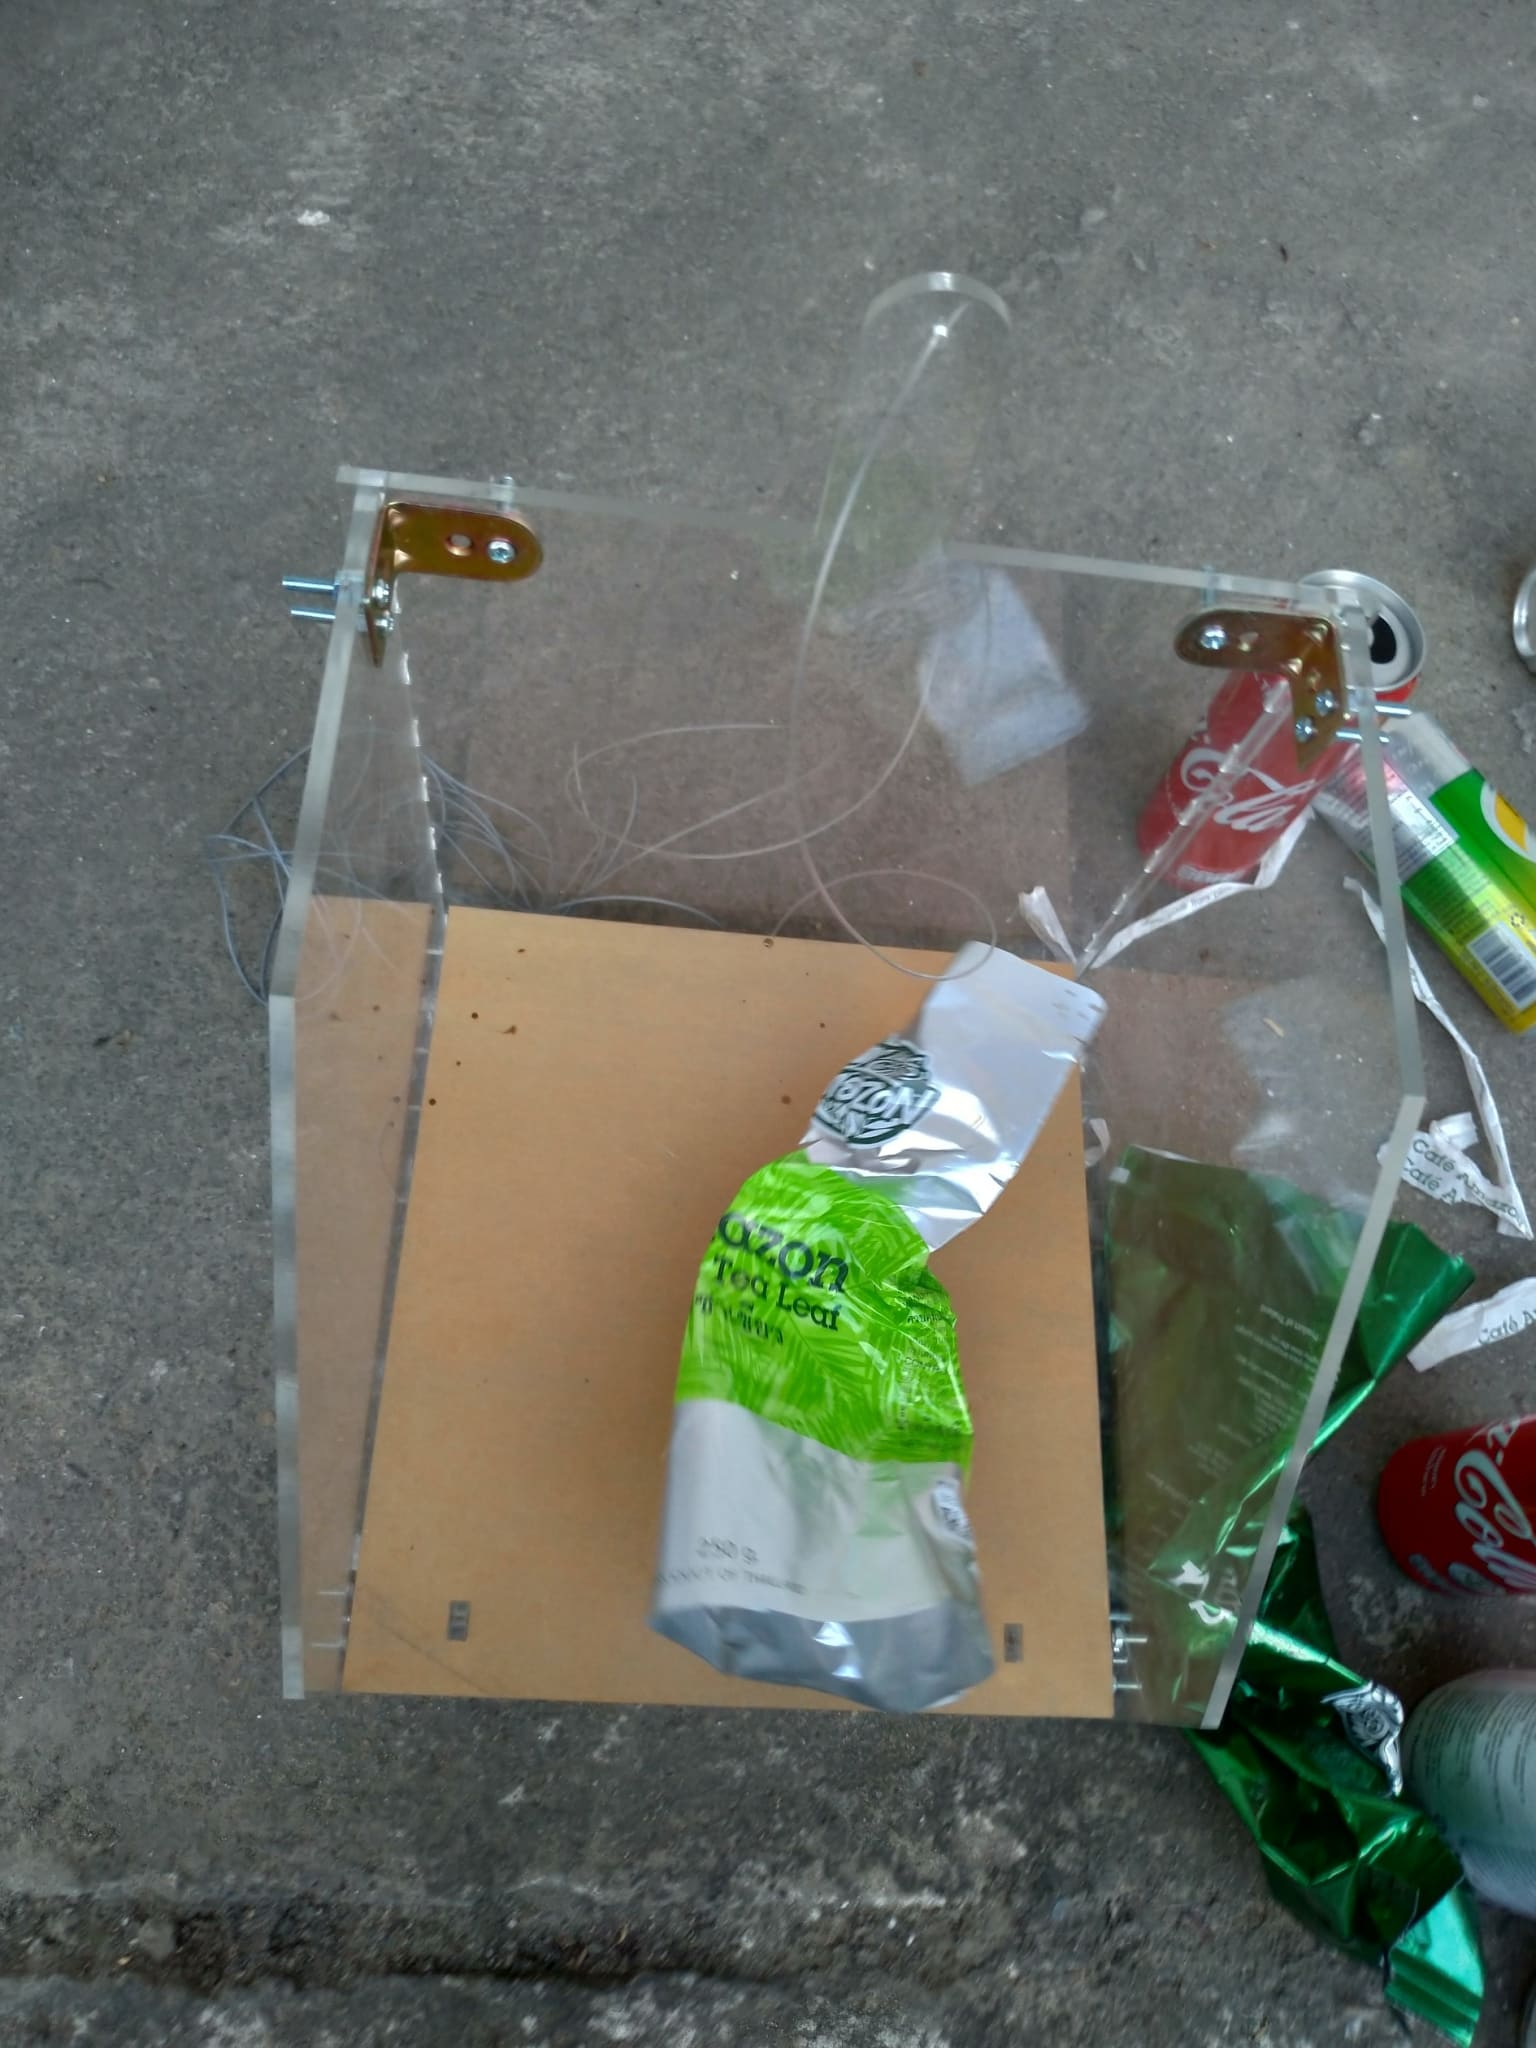AlCan: (1141, 564, 1421, 905), (1333, 714, 1536, 1018), (1375, 1408, 1536, 1605)
Others: (657, 945, 1104, 1695), (1110, 1142, 1483, 2030)
